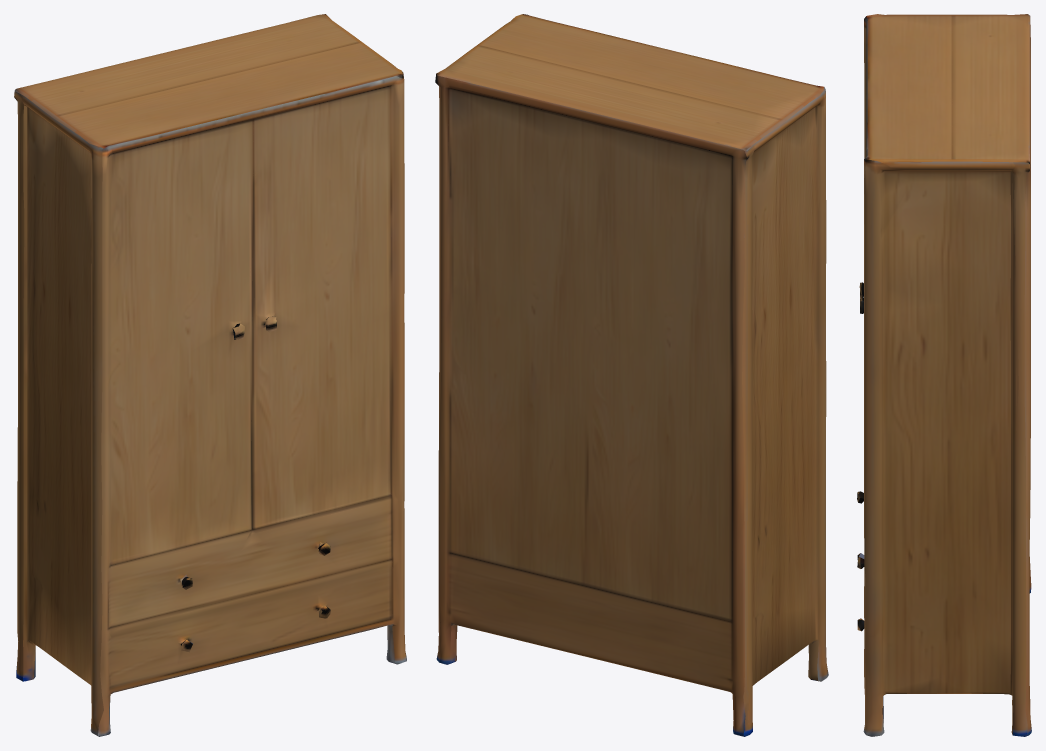
The model's file is Penderie3_3D_textured.glb.
3 renders of one model, left to right at view 1: azimuth 30°, elevation 25°; view 2: azimuth 150°, elevation 25°; view 3: azimuth 270°, elevation 25°, orthographic. The views are drawn at different scales.
Parts seen in each view (by area): view 1: temp_mesh.ply; view 2: temp_mesh.ply; view 3: temp_mesh.ply.
Part boxes in pixels (x1,y1,x2,y2): temp_mesh.ply: [14, 14, 406, 736]; temp_mesh.ply: [435, 14, 828, 736]; temp_mesh.ply: [857, 14, 1031, 736].
Size of the model in its own units: 1.1 by 1.97 by 0.5434.
1 material, 1 textured.
